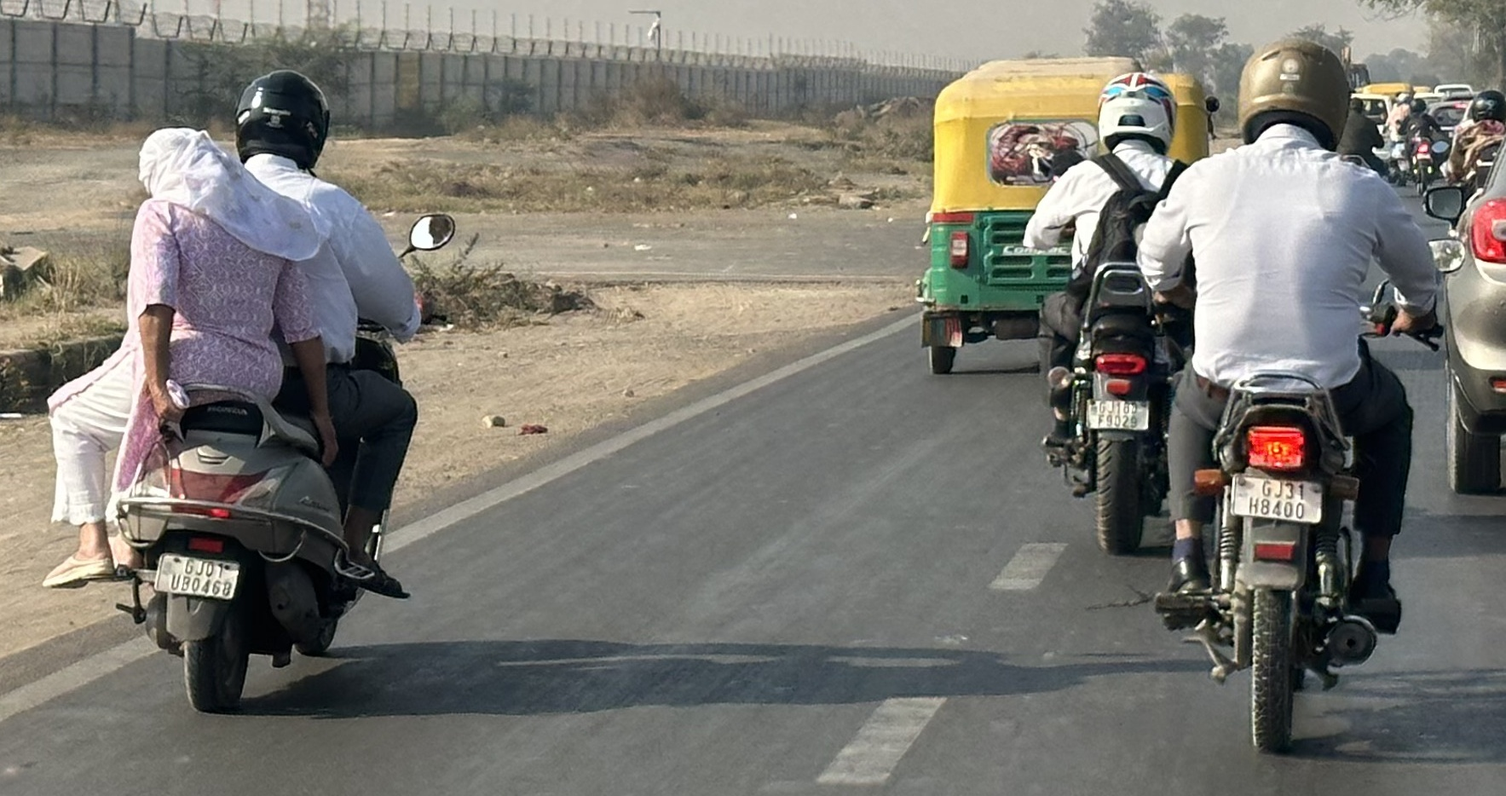BikeWithRider: (30, 50, 468, 737), (1118, 20, 1482, 766), (1007, 44, 1222, 568)
Helmet: (1231, 24, 1361, 160), (228, 62, 332, 189), (1089, 71, 1178, 166)
NoHelmet: (128, 112, 231, 219)
